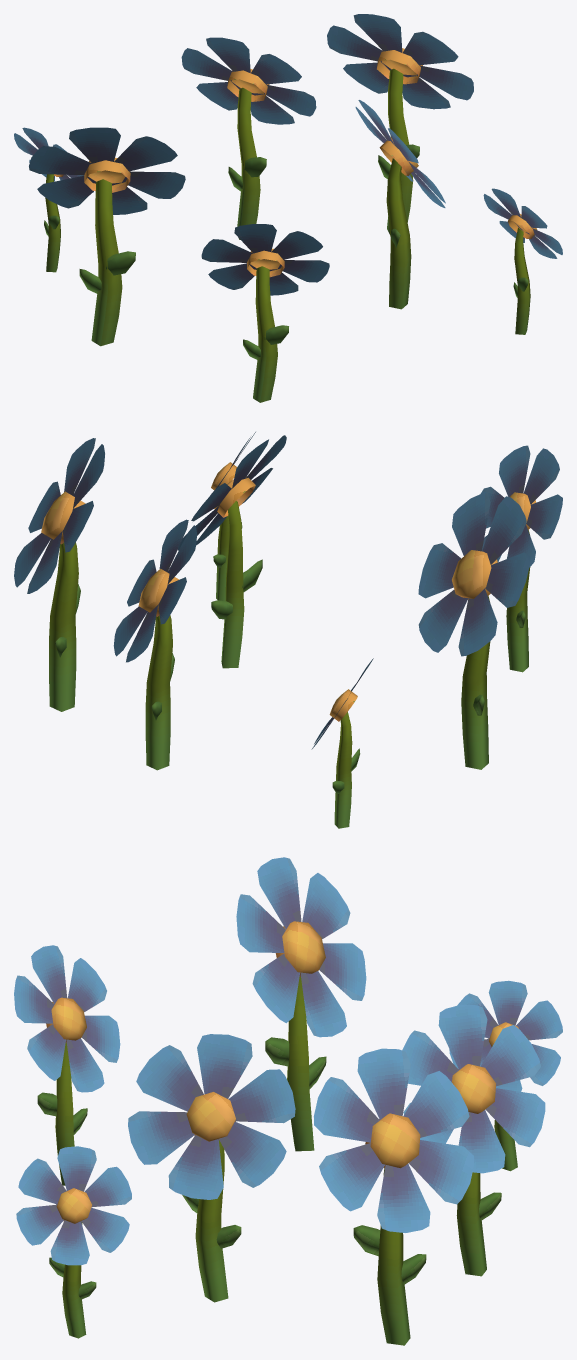
Rendered from FlowerPatch2.fbx.
The picture shows the model from 3 angles, top to bottom: view 1: azimuth 30°, elevation 25°; view 2: azimuth 150°, elevation 25°; view 3: azimuth 270°, elevation 25°; orthographic projection. The views are drawn at different scales.
Visible parts, largest first — view 1: blueflowers; view 2: blueflowers; view 3: blueflowers.
Boxes of the visible parts, bbox=[...] form: blueflowers: bbox=[14, 14, 562, 402]; blueflowers: bbox=[14, 432, 562, 828]; blueflowers: bbox=[14, 857, 562, 1345].
Bounding box in the file's own units: 1.26 × 0.628 × 1.14.
